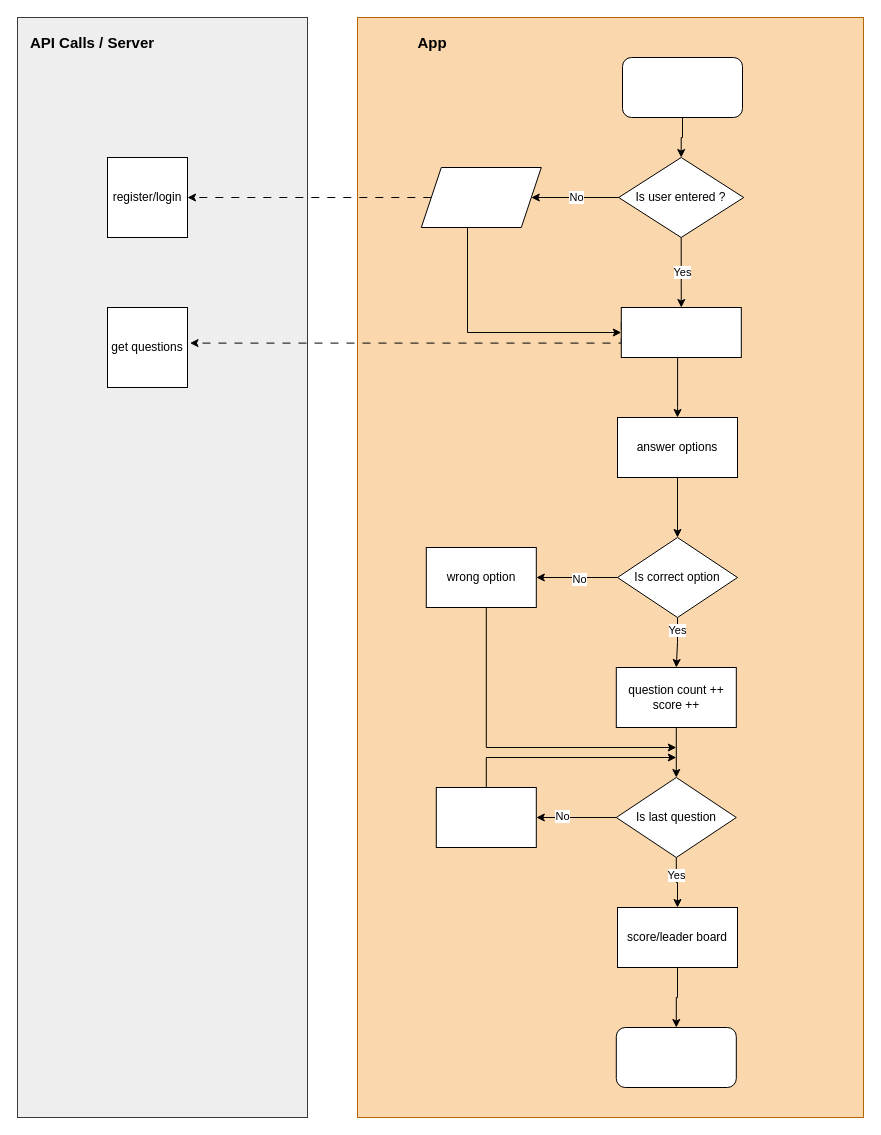
The diagram is 881 pixels wide and 1135 high, and some of its shapes have lost their labels. Each missing label, with the box of its shape:
Ends: (615, 1026, 736, 1088)
Enter your name/email: (420, 166, 541, 228)
Not last question: (435, 786, 536, 848)
Opens: (622, 56, 742, 118)
quiz questions question count = 0 score = 0: (620, 306, 741, 358)
